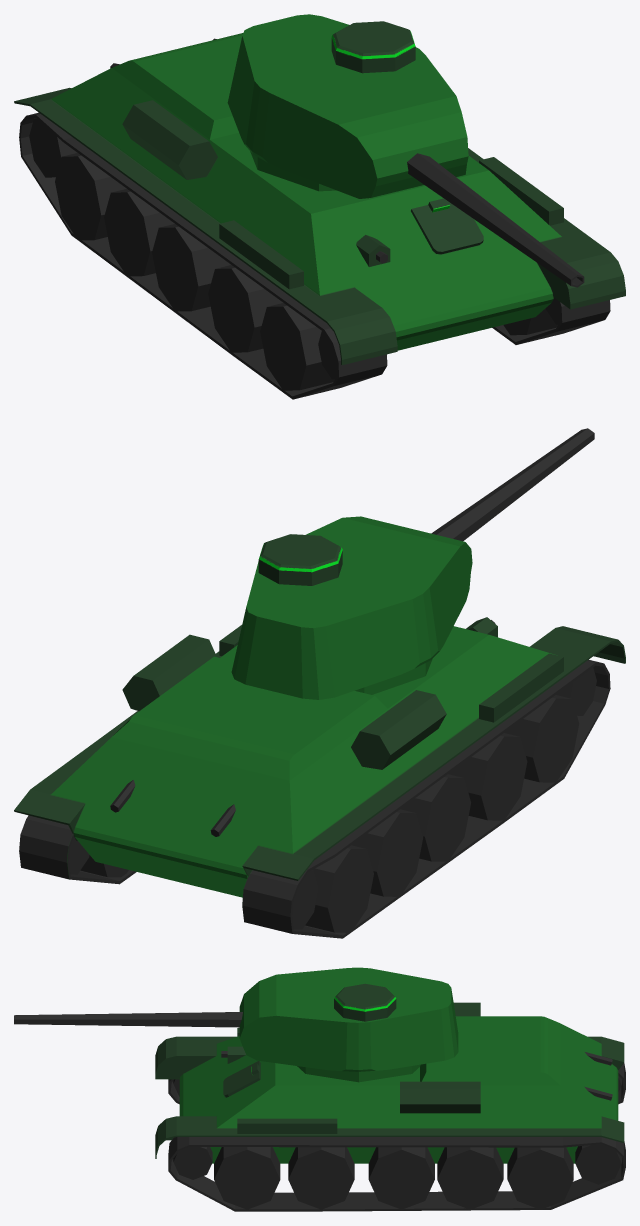
Rendered from Tank.fbx.
3 renders of one model, top to bottom at view 1: azimuth 30°, elevation 25°; view 2: azimuth 150°, elevation 25°; view 3: azimuth 270°, elevation 25°, orthographic. The views are drawn at different scales.
Visible parts, largest first — view 1: Cube.001, Circle.001, Cylinder.007, Cylinder.008, Cylinder.012, Cylinder.011, Cylinder.014, Cylinder.013, Cylinder.015, Cylinder, Cylinder.010; view 2: Cube.001, Circle.001, Cylinder.011, Cylinder.014, Cylinder.008, Cylinder.013, Cylinder.012, Cylinder.007, Cylinder.015, Cylinder.010; view 3: Cube.001, Circle.001, Cylinder.002, Cylinder, Cylinder.003, Cylinder.004, Cylinder.001, Cylinder.007, Cylinder.006, Cylinder.005.
Part boxes in pixels (x1,y1,x2,y2): Cube.001: (14, 33, 625, 399); Circle.001: (227, 14, 468, 198); Cylinder.007: (407, 153, 584, 287); Cylinder.008: (260, 303, 334, 390); Cylinder.012: (152, 224, 230, 311); Cylinder.011: (208, 265, 283, 352); Cylinder.014: (55, 153, 126, 240); Cylinder.013: (104, 189, 174, 276); Cylinder.015: (29, 118, 77, 177); Cylinder: (503, 308, 557, 335); Cylinder.010: (318, 331, 337, 379); Cube.001: (14, 617, 625, 938); Circle.001: (231, 516, 472, 699); Cylinder.011: (448, 733, 527, 820); Cylinder.014: (305, 845, 373, 932); Cylinder.008: (504, 695, 579, 782); Cylinder.013: (351, 809, 422, 896); Cylinder.012: (400, 774, 470, 861); Cylinder.007: (431, 428, 594, 541); Cylinder.015: (292, 870, 318, 929); Cylinder.010: (556, 667, 596, 715); Cube.001: (155, 1002, 625, 1211); Circle.001: (239, 967, 458, 1071); Cylinder.002: (368, 1147, 434, 1209); Cylinder: (214, 1147, 280, 1209); Cylinder.003: (437, 1147, 503, 1209); Cylinder.004: (507, 1147, 573, 1209); Cylinder.001: (288, 1147, 354, 1209); Cylinder.007: (14, 1012, 242, 1027); Cylinder.006: (575, 1144, 621, 1184); Cylinder.005: (173, 1147, 212, 1179).
Size of the model in its own units: 311 by 265 by 812.
